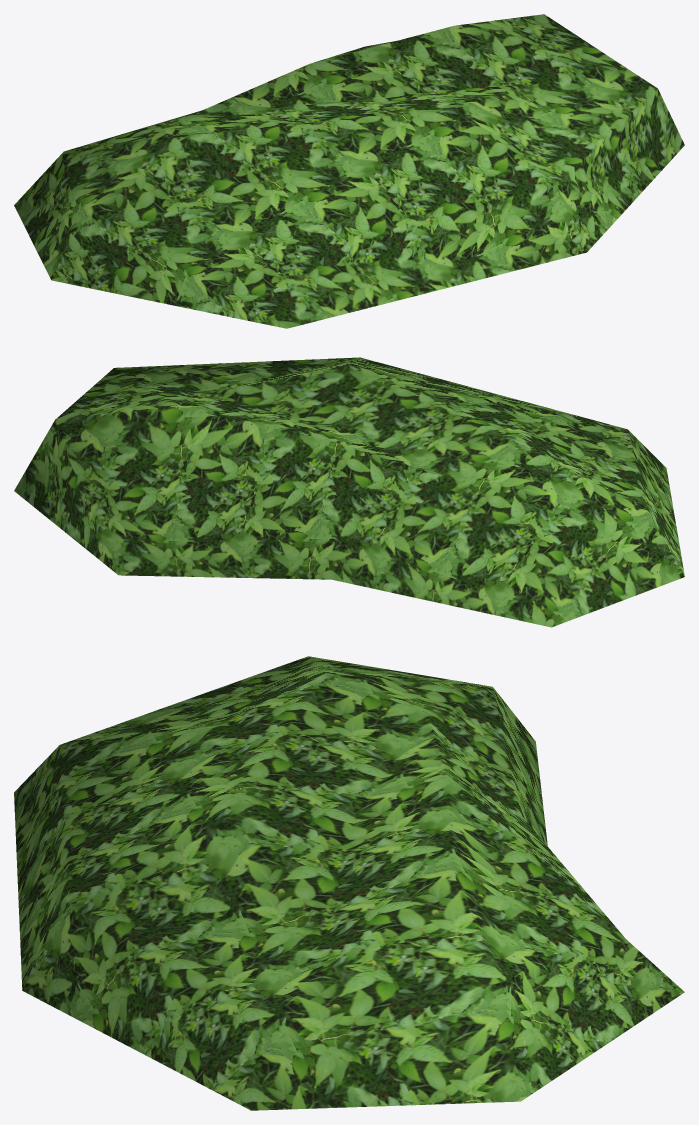
Rendered from bush_0.fbx.
3 renders of one model, top to bottom at view 1: azimuth 30°, elevation 25°; view 2: azimuth 150°, elevation 25°; view 3: azimuth 270°, elevation 25°, orthographic. The views are drawn at different scales.
Parts seen in each view (by area): view 1: bush_0; view 2: bush_0; view 3: bush_0.
Boxes of the visible parts, bbox=[...] form: bush_0: bbox=[14, 14, 684, 328]; bush_0: bbox=[14, 357, 684, 627]; bush_0: bbox=[14, 656, 684, 1110].
Size of the model in its own units: 648 by 103 by 458.
